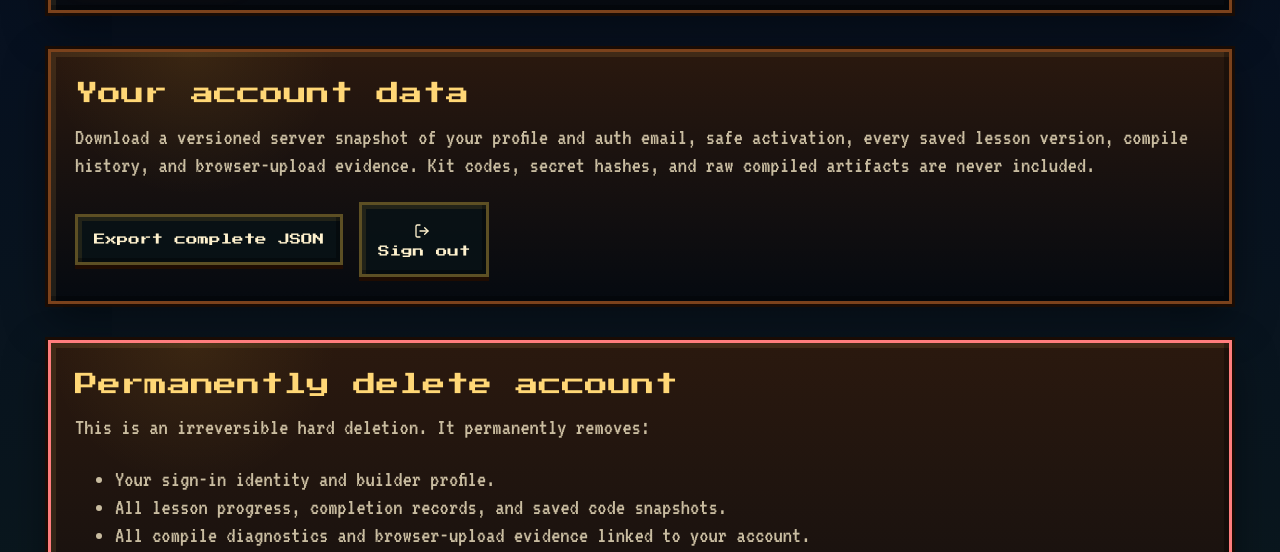
Test: IdentityProvider mutation ownership › discards an account A export resolved after account B is active and the page unmounts
(page scrolled)
Click the button "Export complete JSON" at (209, 240), box [75, 214, 343, 265]
(page scrolled)
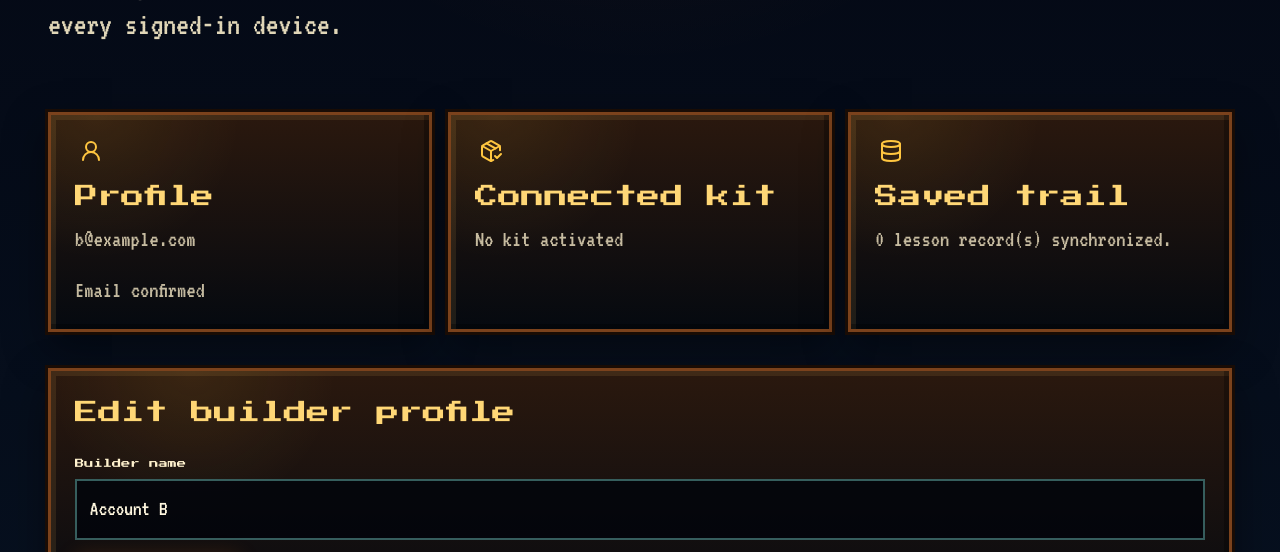
Expected: the text "b@example.com" is shown, [75, 227, 196, 251]
